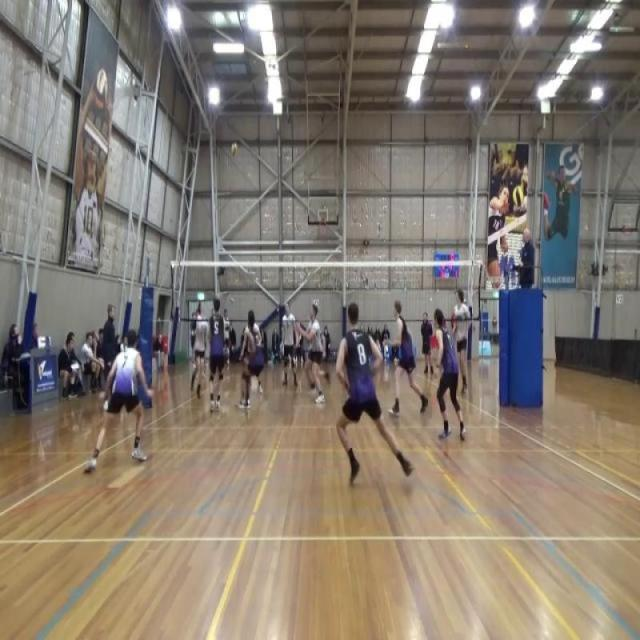volleyball: (95, 69, 108, 108), (510, 184, 526, 208), (230, 142, 239, 158)
